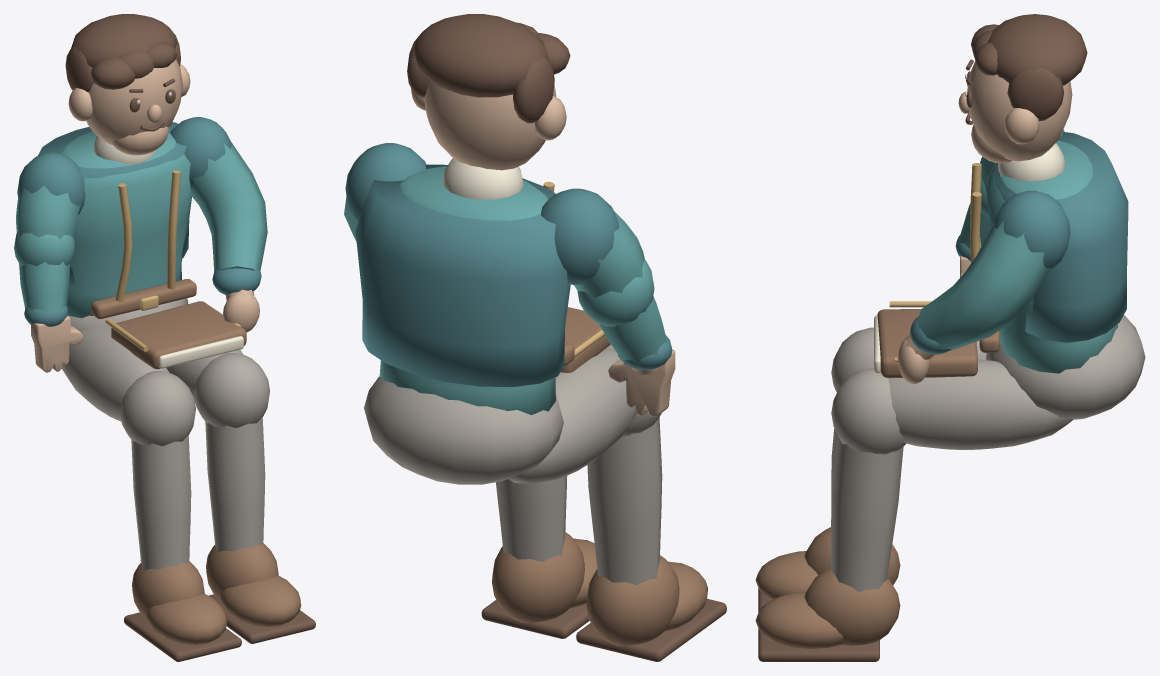
The model's file is home-resident-v1.glb.
The picture shows the model from 3 angles, left to right: view 1: azimuth 30°, elevation 25°; view 2: azimuth 150°, elevation 25°; view 3: azimuth 270°, elevation 25°; orthographic projection. The views are drawn at different scales.
Visible parts, largest first — view 1: home-resident-body-trousers, home-resident-body-leather, tailored-teal-vest, home-resident-head-hair, connected-sleeve-R, home-resident-head-skin, home-resident-left-elbow-teal, home-resident-body-hair, home-resident-right-arm-teal-dark, home-resident-body-brass, connected-upper-sleeve-L, overlap-shoulder-L (+5 smaller); view 2: home-resident-body-trousers, short-cloak-hem, home-resident-body-leather, home-resident-head-hair, home-resident-head-skin, tailored-teal-vest, overlap-shoulder-L, home-resident-left-elbow-teal, home-resident-body-hair, home-resident-right-arm-teal-dark, connected-upper-sleeve-L, home-resident-left-wrist-skin (+2 smaller); view 3: home-resident-body-trousers, home-resident-body-leather, short-cloak-hem, connected-sleeve-R, home-resident-head-hair, tailored-teal-vest, home-resident-head-skin, home-resident-right-arm-teal-dark, home-resident-body-hair, home-resident-body-paper, home-resident-body-brass, home-resident-right-arm-skin (+1 smaller).
Part boxes in pixels (x1,y1,x2,y2): home-resident-body-trousers: [61, 298, 269, 570]; home-resident-body-leather: [91, 279, 301, 644]; tailored-teal-vest: [61, 131, 191, 318]; home-resident-head-hair: [65, 14, 180, 131]; connected-sleeve-R: [190, 142, 267, 271]; home-resident-head-skin: [68, 59, 190, 155]; home-resident-left-elbow-teal: [14, 232, 75, 312]; home-resident-body-hair: [124, 594, 315, 661]; home-resident-right-arm-teal-dark: [170, 117, 261, 294]; home-resident-body-brass: [105, 170, 241, 351]; connected-upper-sleeve-L: [16, 186, 80, 239]; overlap-shoulder-L: [17, 152, 85, 214]; home-resident-body-trousers: [364, 344, 662, 585]; short-cloak-hem: [355, 164, 570, 386]; home-resident-body-leather: [492, 307, 708, 646]; home-resident-head-hair: [407, 14, 570, 123]; home-resident-head-skin: [411, 79, 566, 170]; tailored-teal-vest: [379, 166, 555, 415]; overlap-shoulder-L: [541, 188, 619, 284]; home-resident-left-elbow-teal: [577, 260, 667, 365]; home-resident-body-hair: [481, 598, 726, 661]; home-resident-right-arm-teal-dark: [345, 143, 426, 223]; connected-upper-sleeve-L: [574, 211, 644, 298]; home-resident-left-wrist-skin: [608, 349, 675, 416]; home-resident-body-trousers: [831, 315, 1145, 592]; home-resident-body-leather: [755, 309, 999, 648]; short-cloak-hem: [994, 132, 1128, 342]; connected-sleeve-R: [917, 220, 1050, 350]; home-resident-head-hair: [965, 14, 1087, 124]; tailored-teal-vest: [986, 141, 1117, 373]; home-resident-head-skin: [958, 61, 1072, 163]; home-resident-right-arm-teal-dark: [910, 190, 1070, 354]; home-resident-body-hair: [758, 588, 879, 661]; home-resident-body-paper: [874, 143, 1065, 373]; home-resident-body-brass: [889, 163, 981, 361]; home-resident-right-arm-skin: [897, 334, 935, 383].
Size of the model in its own units: 1.14 by 2.45 by 1.44.
